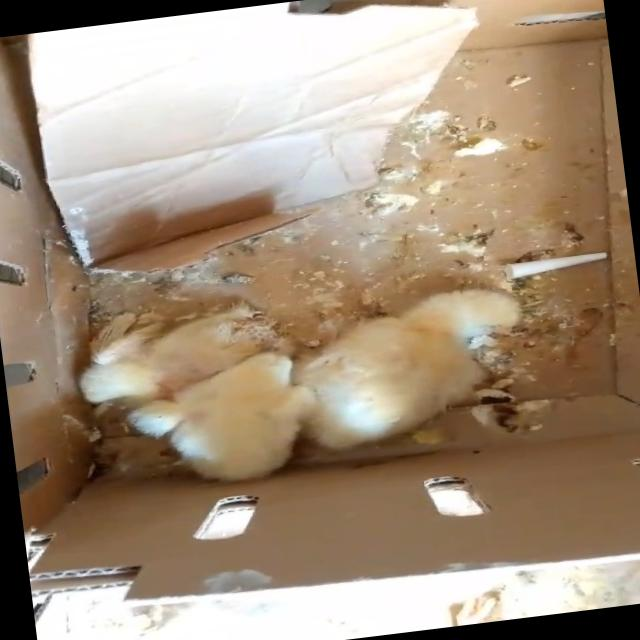dead: (303, 268, 562, 456), (55, 265, 288, 423), (133, 353, 314, 498)
